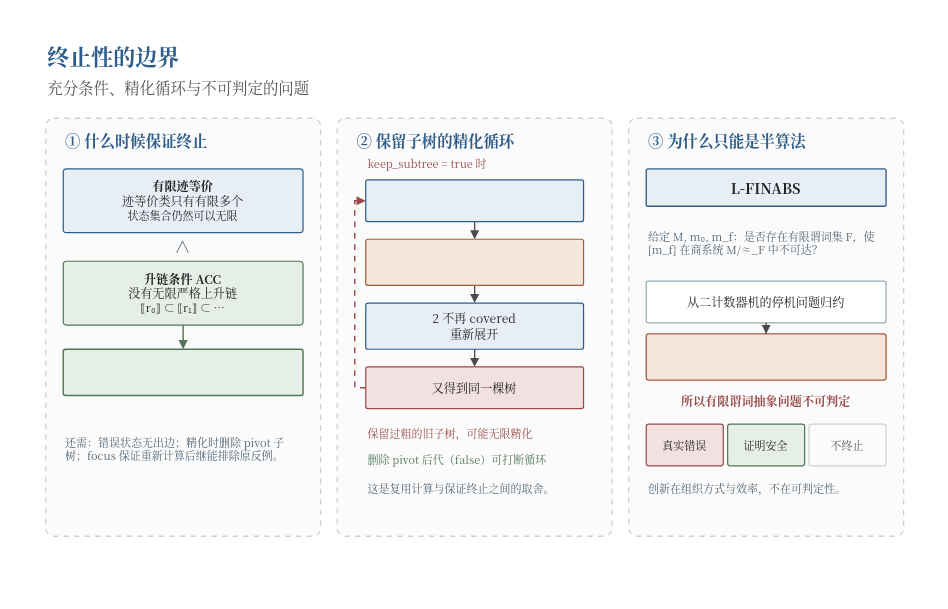
Some shapes in this 948 by 609 pixel diagram are drawn without their labels. Here are the shapes that lost their labels. From the top down, the box of each, then its label:
(365, 179, 584, 222): 2 被父节点覆盖
(365, 238, 584, 286): 另一分支发现反例 精化 x = 0
(62, 348, 303, 396): LazyAbstraction 终止
(645, 333, 886, 380): Presburger-FINABS 是 Σ₁⁰-完全的
